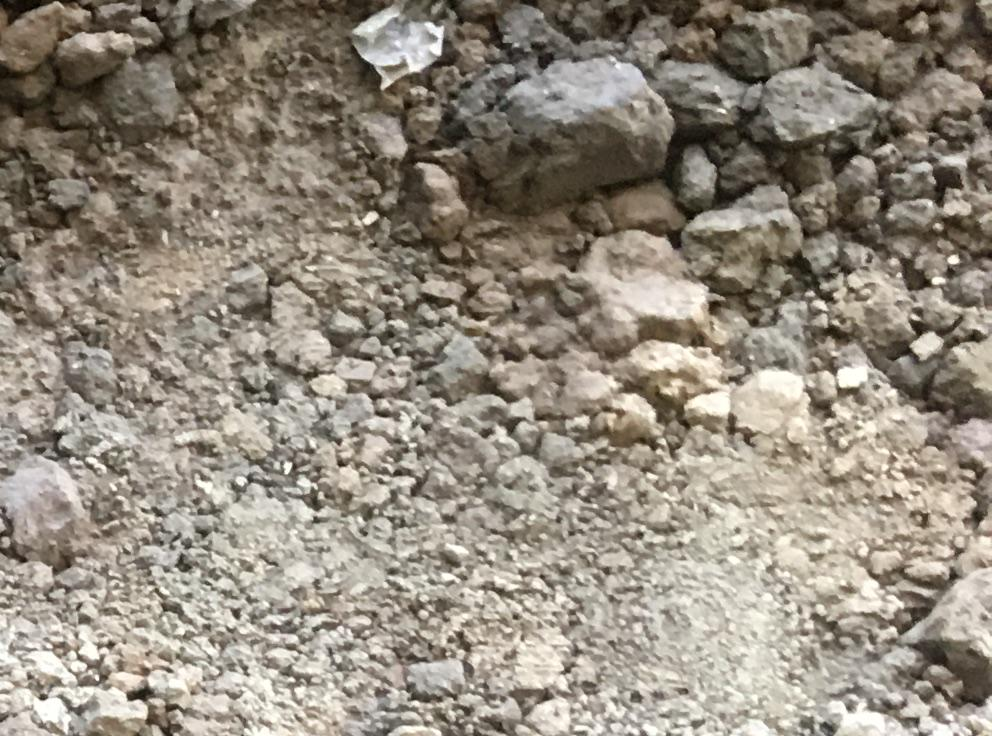block: (469, 56, 674, 206), (754, 62, 881, 149), (1, 452, 91, 567), (683, 188, 775, 300)
